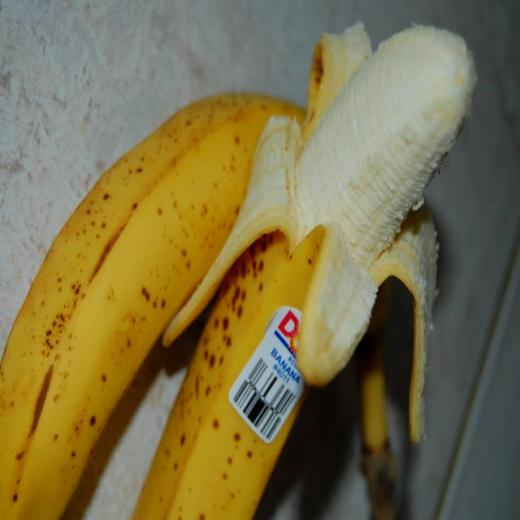Banana: (125, 16, 483, 516), (0, 90, 304, 519)
